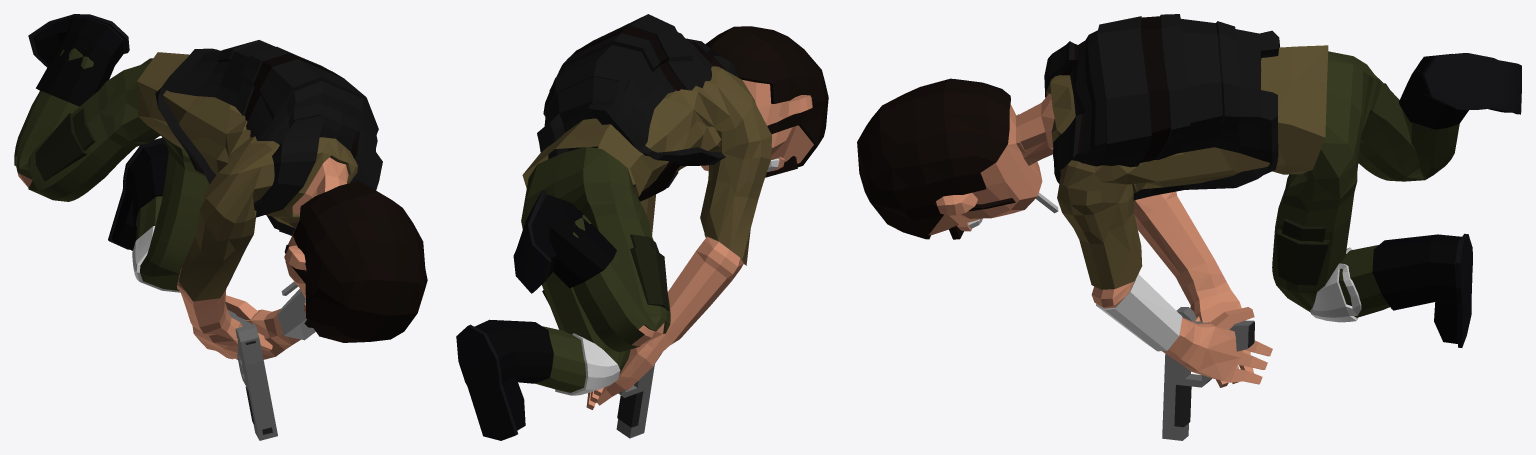
The model's file is frame_0030.obj.
3 views of the same model, side by side, from view 1: azimuth 30°, elevation 25°; view 2: azimuth 150°, elevation 25°; view 3: azimuth 270°, elevation 25° (orthographic). The views are drawn at different scales.
Visible parts, largest first — view 1: Body, Gun; view 2: Body, Gun; view 3: Body, Gun.
Boxes of the visible parts, x1,y1,x2,y2 form: Body: (14,14,427,359); Gun: (227,310,277,440); Body: (456,14,828,440); Gun: (616,364,654,438); Body: (857,14,1521,387); Gun: (1162,307,1254,440).
Size of the model in its own units: 1.41 by 2.37 by 3.4.
